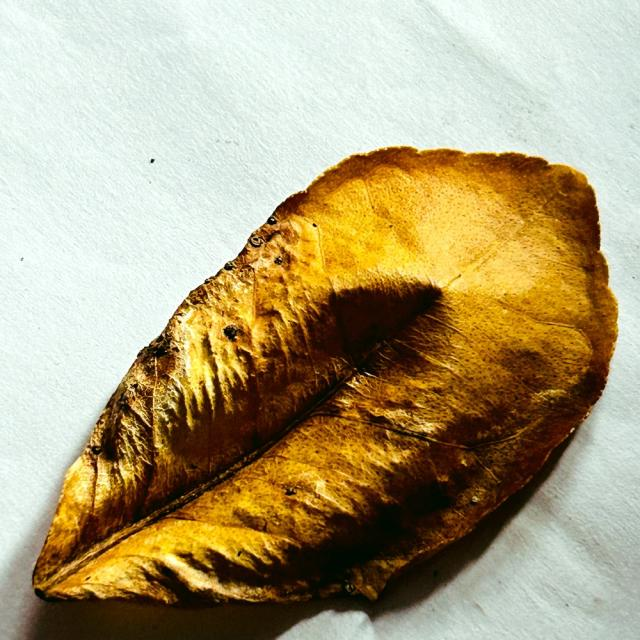DryLeaf_Lemon: (33, 147, 617, 605)
